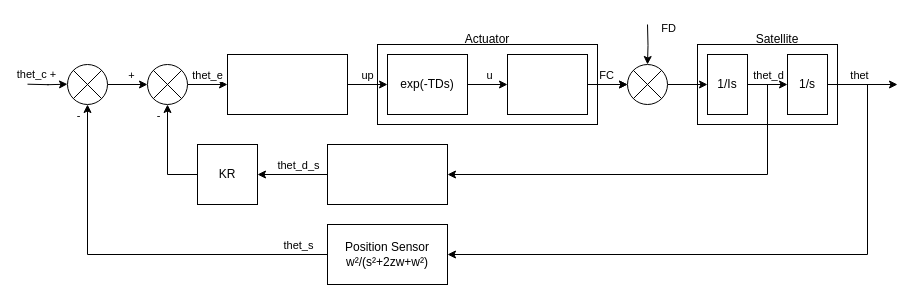
Image size: 923x302. Some labels were removed from this diagram. Each missing label, with the centre of its shape:
"FM/(TCs+1)" goes at (x=547, y=84).
"ON OFF Controller" goes at (x=287, y=84).
"Rate Sensor w²/(s²+2zw+w²)" goes at (x=387, y=174).
